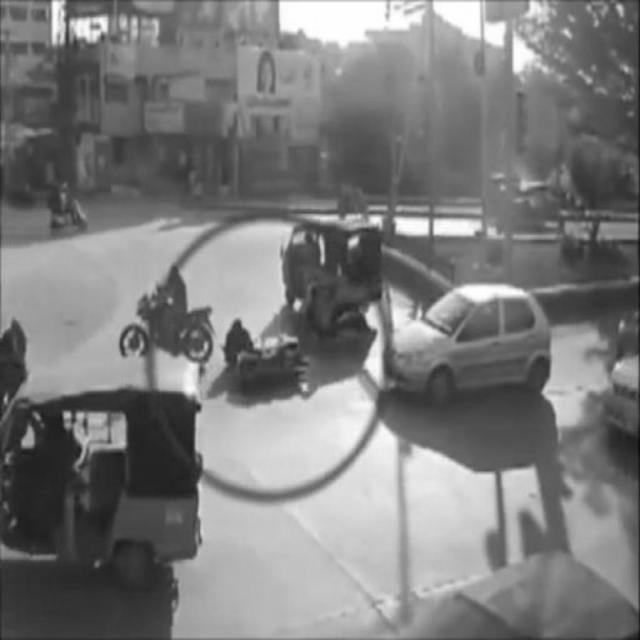vehicle: (2, 362, 203, 592), (385, 286, 553, 396), (119, 260, 215, 366), (282, 214, 382, 315), (226, 314, 308, 397), (303, 271, 371, 351)
